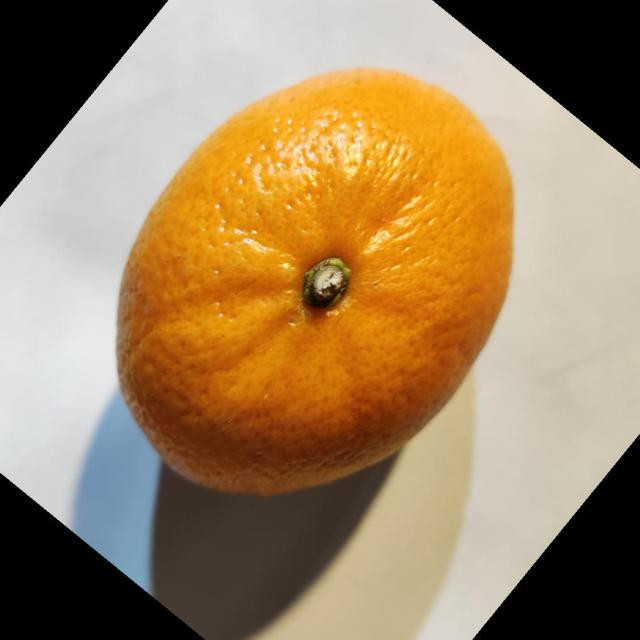fresh orange: (114, 65, 516, 497)
